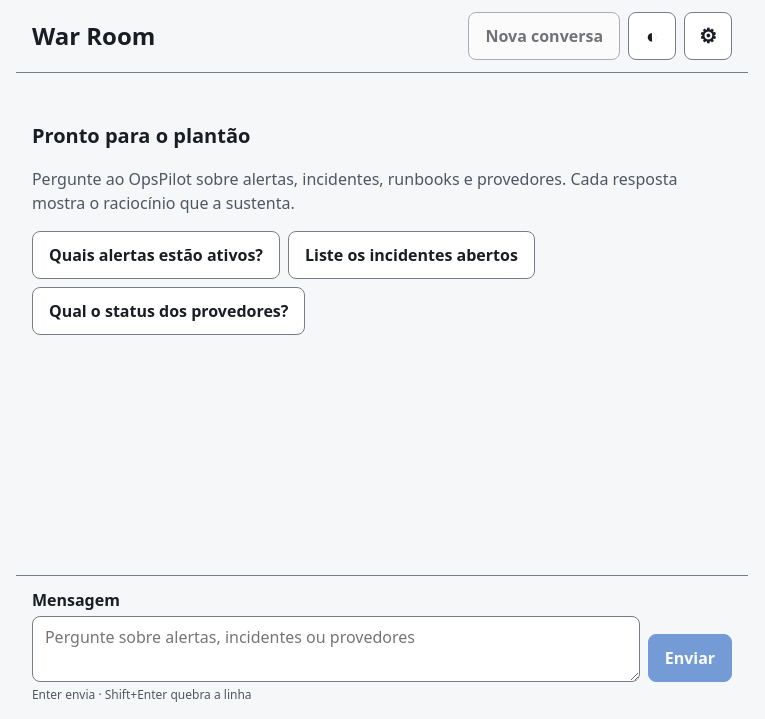
Test: denying shows Negado and the denial answer
Type "Resolva o incidente incident-001" into the text box labelled "Mensagem" at (336, 649), box 32,616 -> 640,682
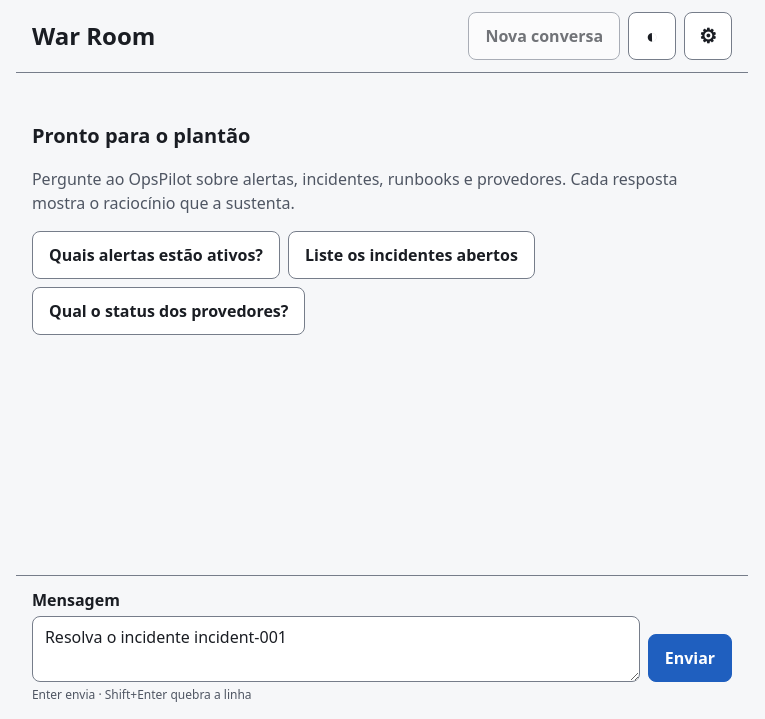
Click the button "Enviar" at (690, 658), box 648,634 -> 732,682
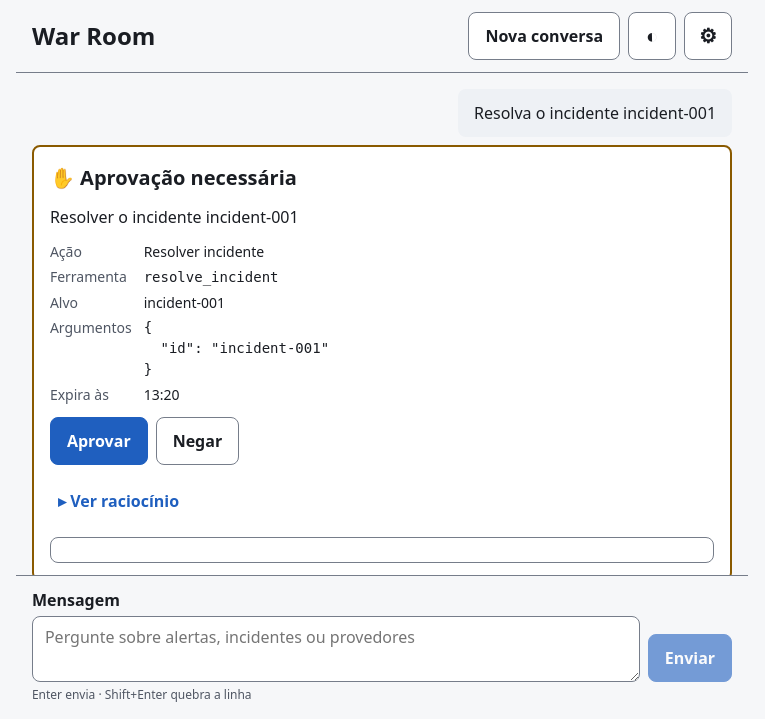
Click the button "Negar" at (197, 441), box 156,417 -> 239,465
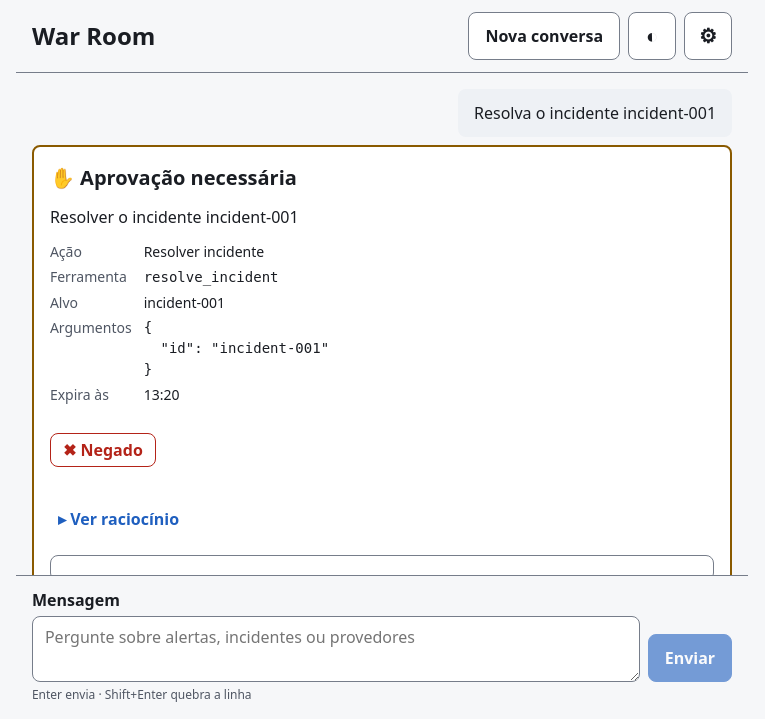
Expected: the text "Resolução do incidente incident-001 negada pelo operador; nada foi alterado." is shown, 49,620 -> 715,644
Now the text "Negado" is shown, box 80,439 -> 143,461
